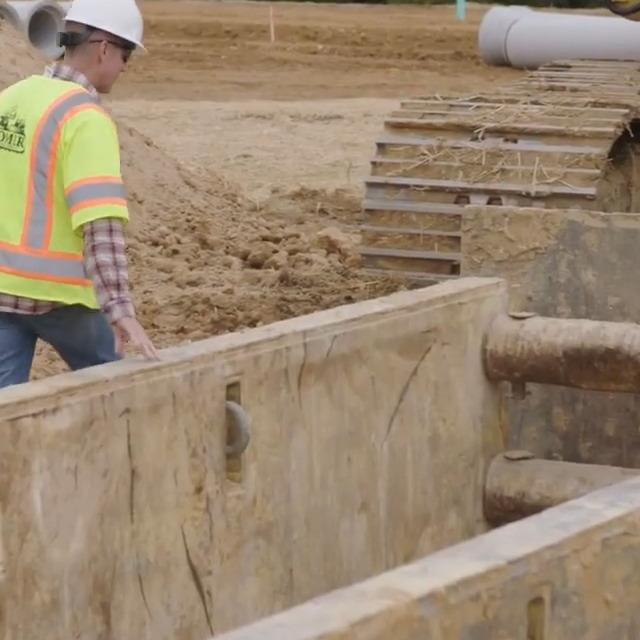Hardhat: (60, 0, 147, 54)
NO-Mask: (90, 63, 123, 93)
Person: (0, 0, 164, 393)
Safety Vest: (0, 78, 126, 289)
machinery: (354, 0, 640, 304)
